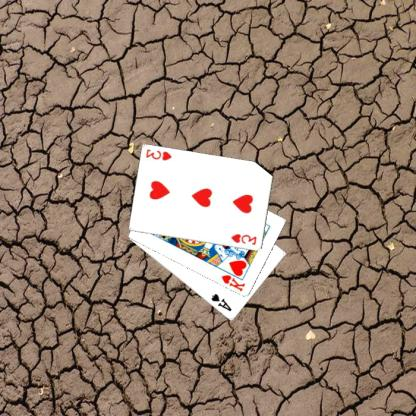3H: (230, 231, 260, 246), (145, 147, 175, 162)
AS: (210, 291, 235, 313)
KH: (221, 272, 249, 293)
